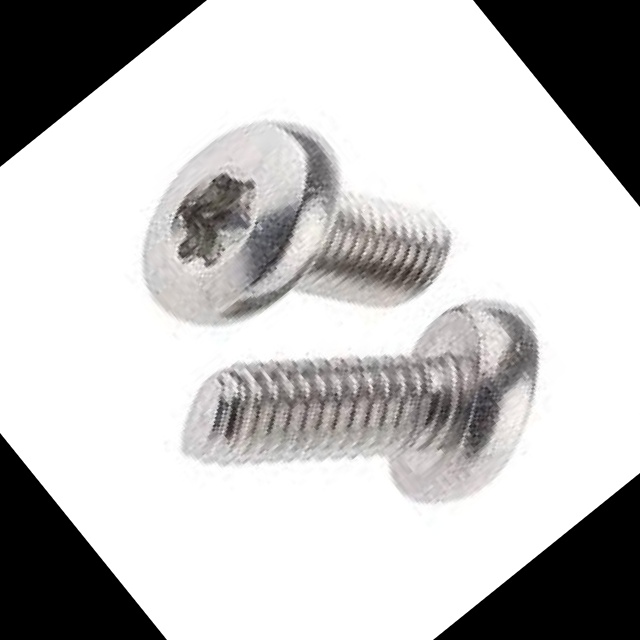torx: (97, 82, 388, 362)
